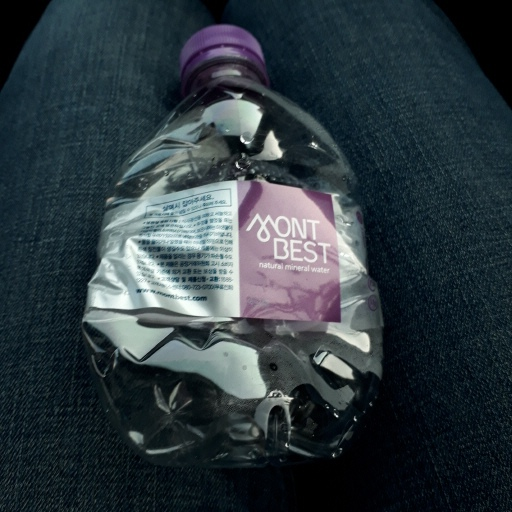Plastic_0: (79, 25, 385, 459)
